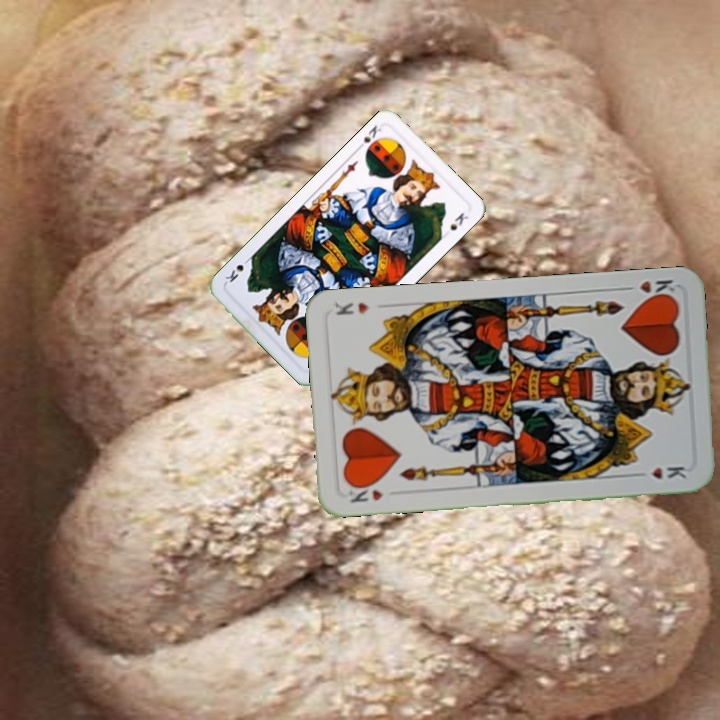HK: (619, 275, 679, 303), (345, 479, 386, 505)
SK: (353, 121, 384, 153)
